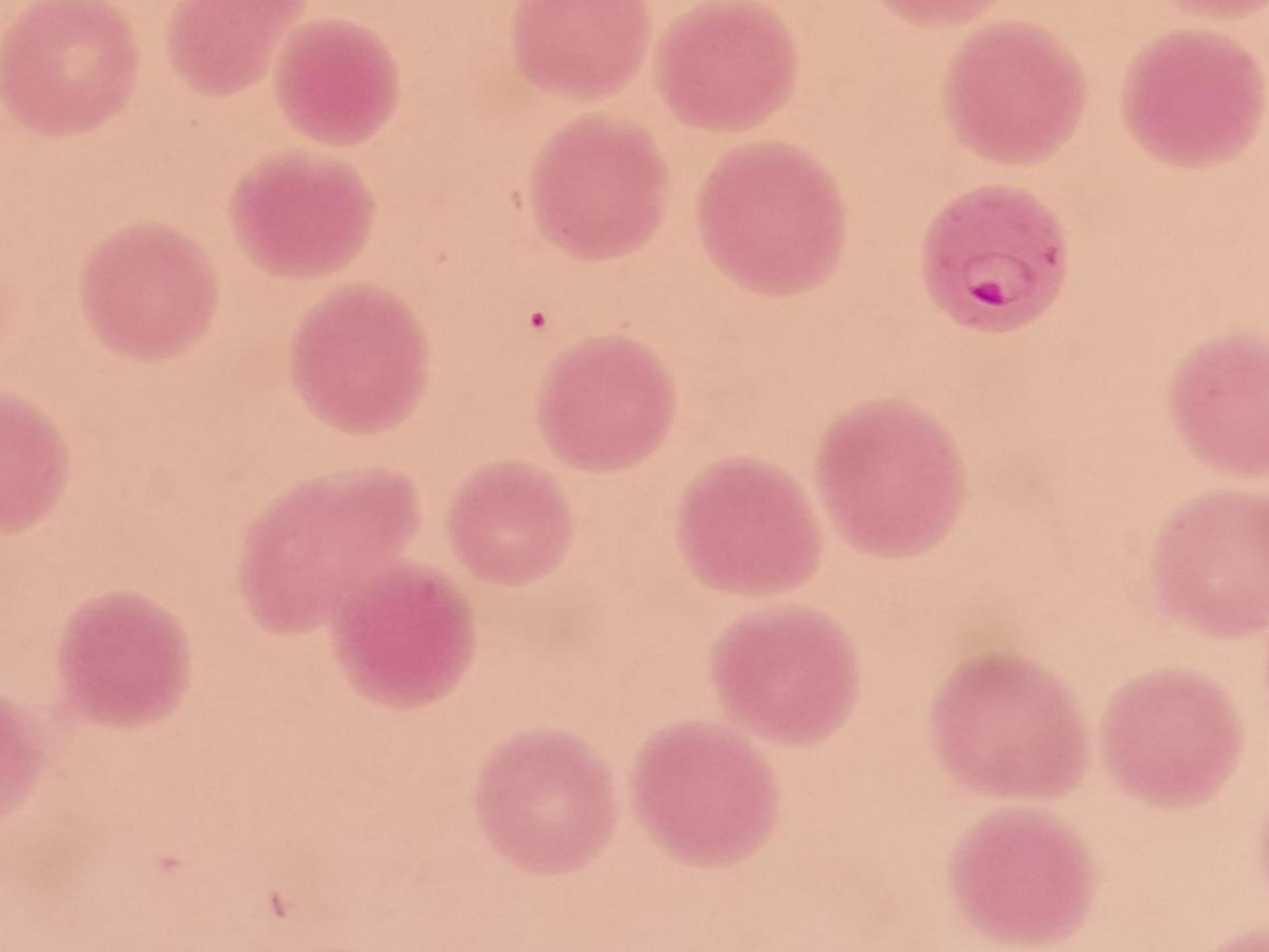Infected: (922, 189, 1065, 332)
Uninfected: (246, 466, 418, 635), (821, 398, 961, 558), (932, 658, 1088, 798), (329, 559, 477, 706), (699, 142, 838, 295), (633, 720, 776, 867), (291, 286, 428, 435), (1120, 28, 1265, 168), (711, 608, 857, 747), (945, 25, 1087, 166), (674, 460, 821, 594), (529, 114, 666, 257), (81, 222, 221, 360), (1096, 671, 1243, 802), (230, 152, 381, 278), (476, 729, 609, 872), (0, 0, 140, 135), (952, 813, 1095, 945), (535, 332, 673, 467), (61, 587, 189, 726), (654, 0, 794, 127), (1153, 491, 1269, 633), (448, 461, 578, 583), (273, 18, 398, 143), (1170, 334, 1269, 475), (511, 0, 649, 98), (165, 0, 296, 97)
